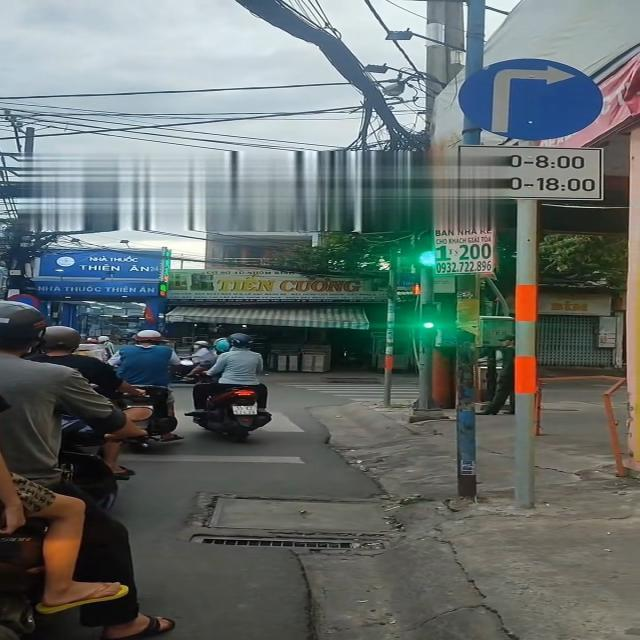301d-cac-xe-chi-duoc-re-phai-2: (462, 58, 606, 142)
